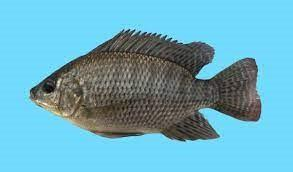Tilapia: (23, 30, 265, 149)
